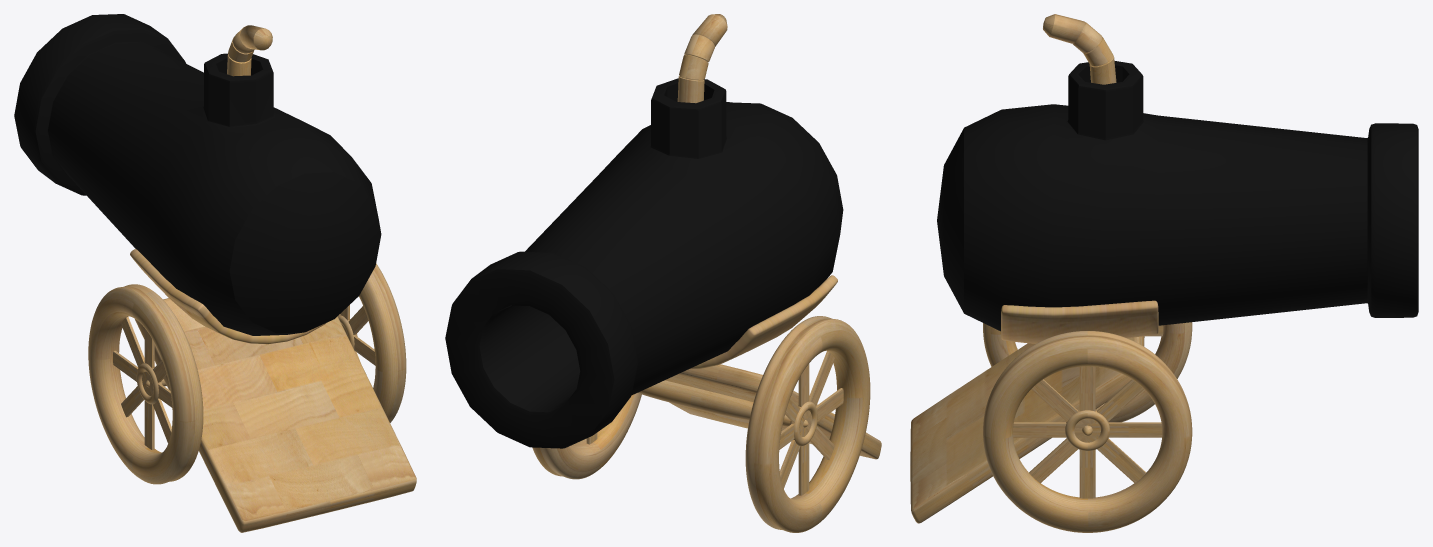
Rendered from Canon2.fbx.
The picture shows the model from 3 angles, left to right: view 1: azimuth 30°, elevation 25°; view 2: azimuth 150°, elevation 25°; view 3: azimuth 270°, elevation 25°; orthographic projection. The views are drawn at different scales.
Parts seen in each view (by area): view 1: Cylinder001, Torus001, Cylinder003; view 2: Cylinder001, Torus001, Cylinder003; view 3: Cylinder001, Torus001, Cylinder003.
Part boxes in pixels (<box>): Cylinder001: <box>14,14,381,335</box>; Torus001: <box>88,249,416,532</box>; Cylinder003: <box>227,25,272,76</box>; Cylinder001: <box>445,78,843,448</box>; Torus001: <box>532,275,881,532</box>; Cylinder003: <box>677,14,727,103</box>; Cylinder001: <box>937,60,1418,331</box>; Torus001: <box>910,300,1192,532</box>; Cylinder003: <box>1043,14,1116,84</box>.
Bounding box in the file's own units: 109 × 198 × 197.
Materials: 2 (1 with a texture image).
